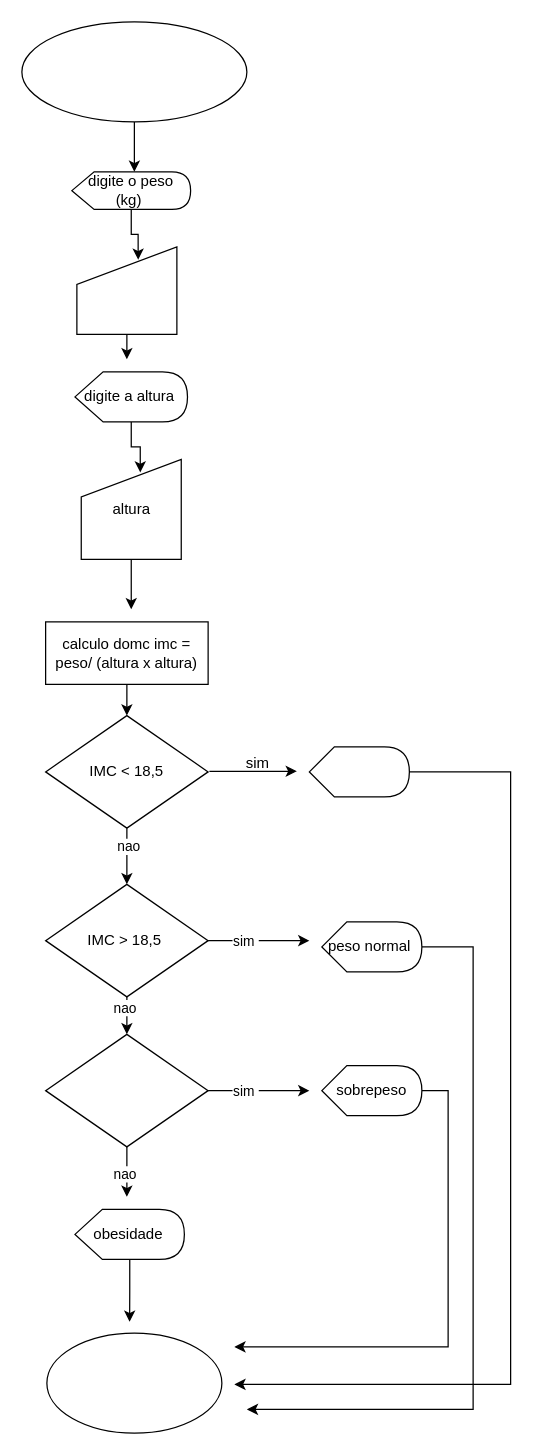
Image size: 543x1455. Some labels were removed from this diagram. The shapes that lost their labels are listed below. From the top down, each one's box as (x1, y1, x2, y2) in pixels, then its label:
(21, 21, 247, 122): inicio
(76, 246, 177, 334): kg
(308, 746, 409, 797): Abaixo do peso
(44, 1033, 208, 1147): IMC > = 25
(46, 1332, 222, 1433): fim
